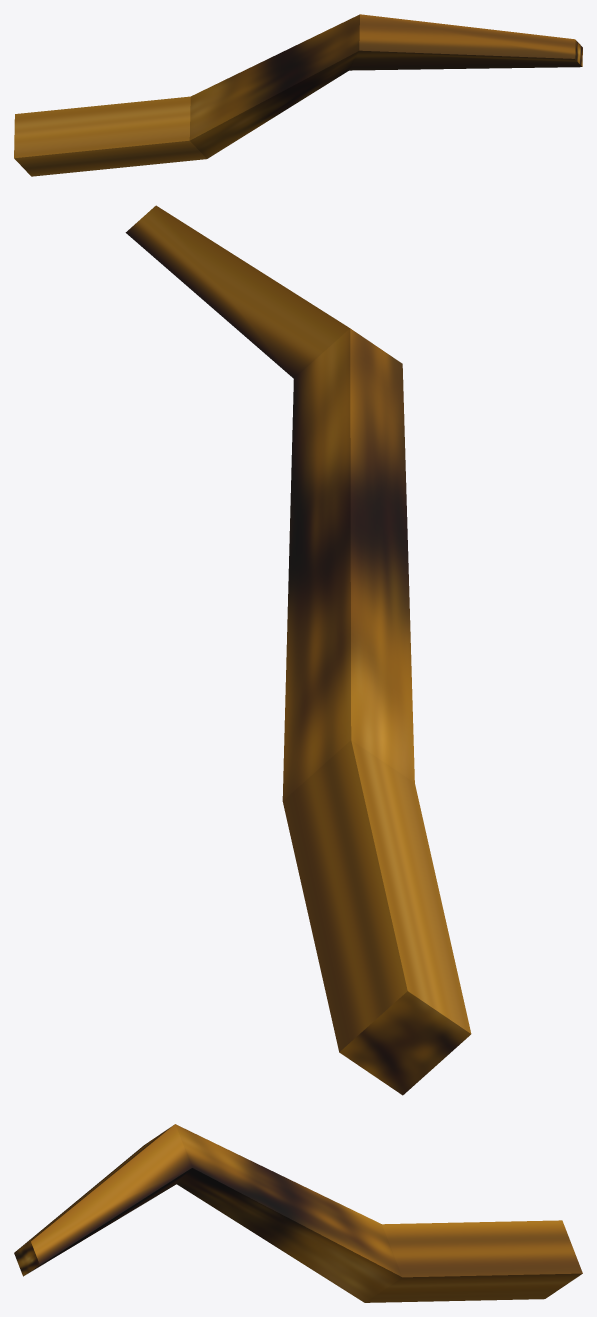
The model's file is MTree_1_B_1.gltf.
3 views of the same model, one above another, from view 1: azimuth 30°, elevation 25°; view 2: azimuth 150°, elevation 25°; view 3: azimuth 270°, elevation 25° (orthographic). The views are drawn at different scales.
Parts seen in each view (by area): view 1: MTree_1_B_1; view 2: MTree_1_B_1; view 3: MTree_1_B_1.
Part boxes in pixels (left/top/right/bottom): MTree_1_B_1: left=14, top=14, right=582, bottom=176; MTree_1_B_1: left=125, top=205, right=471, bottom=1095; MTree_1_B_1: left=14, top=1124, right=582, bottom=1302.
Size of the model in its own units: 4.04 by 2.39 by 4.38.
Materials: 1 (1 with a texture image).
